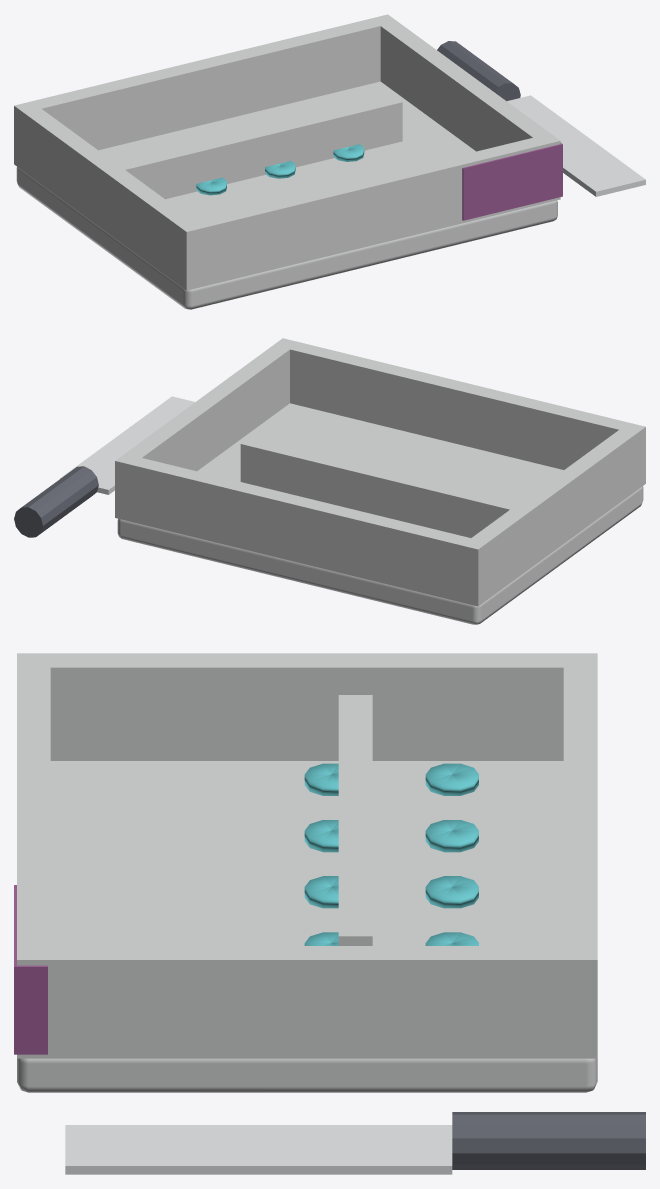
File: pharmacy-and-high-street-chemist-tablet-counting-tray-a235a195__37539.glb
The picture shows the model from 3 angles, top to bottom: view 1: azimuth 30°, elevation 25°; view 2: azimuth 150°, elevation 25°; view 3: azimuth 270°, elevation 25°; orthographic projection. The views are drawn at different scales.
Visible parts, largest first — view 1: tablet-counting-tray; view 2: tablet-counting-tray; view 3: tablet-counting-tray.
Boxes of the visible parts, left/top/right/bottom form: tablet-counting-tray: left=14, top=14, right=645, bottom=309; tablet-counting-tray: left=14, top=338, right=645, bottom=624; tablet-counting-tray: left=14, top=653, right=645, bottom=1174.
Size of the model in its own units: 0.38 by 0.0665 by 0.2612.
